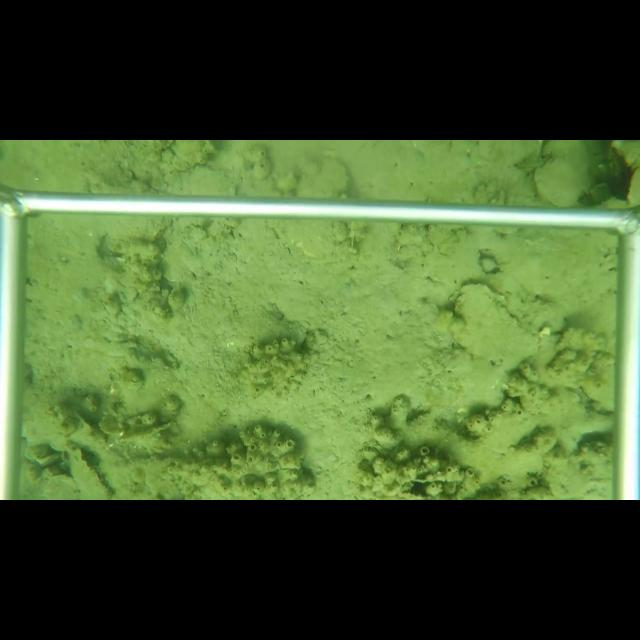Oyster-Closed: (436, 283, 543, 374), (532, 141, 601, 206), (67, 440, 116, 500), (293, 155, 350, 199)
